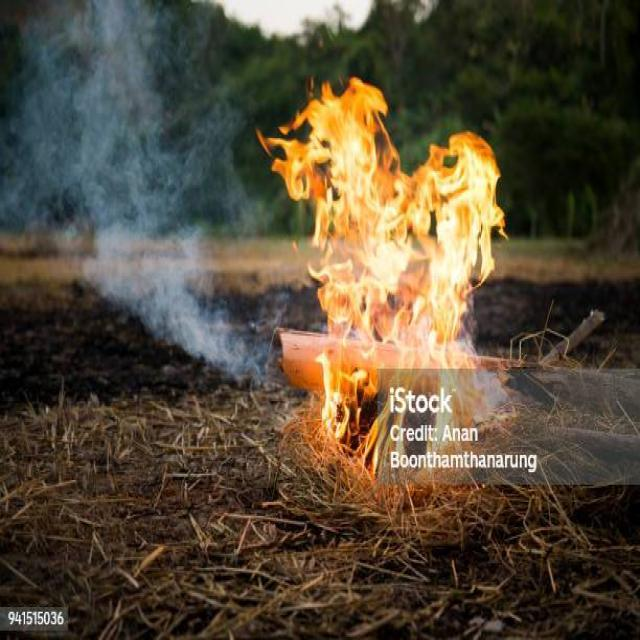Fire: (242, 66, 536, 350), (304, 356, 354, 448)
Smoke: (0, 0, 265, 387)
